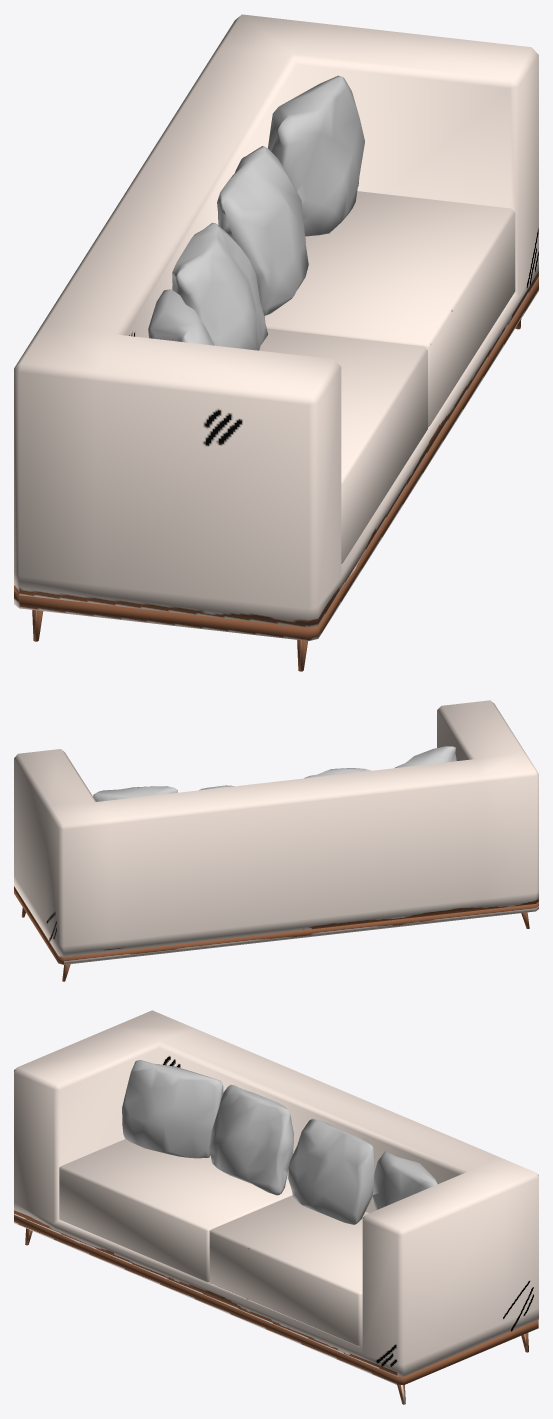
The model's file is F_Sofa 1.fbx.
The picture shows the model from 3 angles, top to bottom: view 1: azimuth 30°, elevation 25°; view 2: azimuth 150°, elevation 25°; view 3: azimuth 270°, elevation 25°; orthographic projection. The views are drawn at different scales.
Visible parts, largest first — view 1: Koltuk.001, Yastik4.001, Yastik3.001, Yastik2.001, Yastik1.001; view 2: Koltuk.001, Yastik4.001, Yastik1.001; view 3: Koltuk.001, Yastik1.001, Yastik3.001, Yastik2.001, Yastik4.001.
Part boxes in pixels (left/top/right/bottom): Koltuk.001: left=14, top=14, right=538, bottom=671; Yastik4.001: left=268, top=75, right=364, bottom=236; Yastik3.001: left=217, top=146, right=308, bottom=315; Yastik2.001: left=172, top=222, right=267, bottom=350; Yastik1.001: left=148, top=289, right=214, bottom=345; Koltuk.001: left=14, top=700, right=538, bottom=981; Yastik4.001: left=93, top=786, right=177, bottom=801; Yastik1.001: left=394, top=746, right=456, bottom=768; Koltuk.001: left=14, top=1010, right=538, bottom=1404; Yastik1.001: left=122, top=1060, right=223, bottom=1158; Yastik3.001: left=288, top=1118, right=374, bottom=1224; Yastik2.001: left=209, top=1085, right=293, bottom=1195; Yastik4.001: left=373, top=1151, right=437, bottom=1210.
Size of the model in its own units: 210 by 78.46 by 210.
